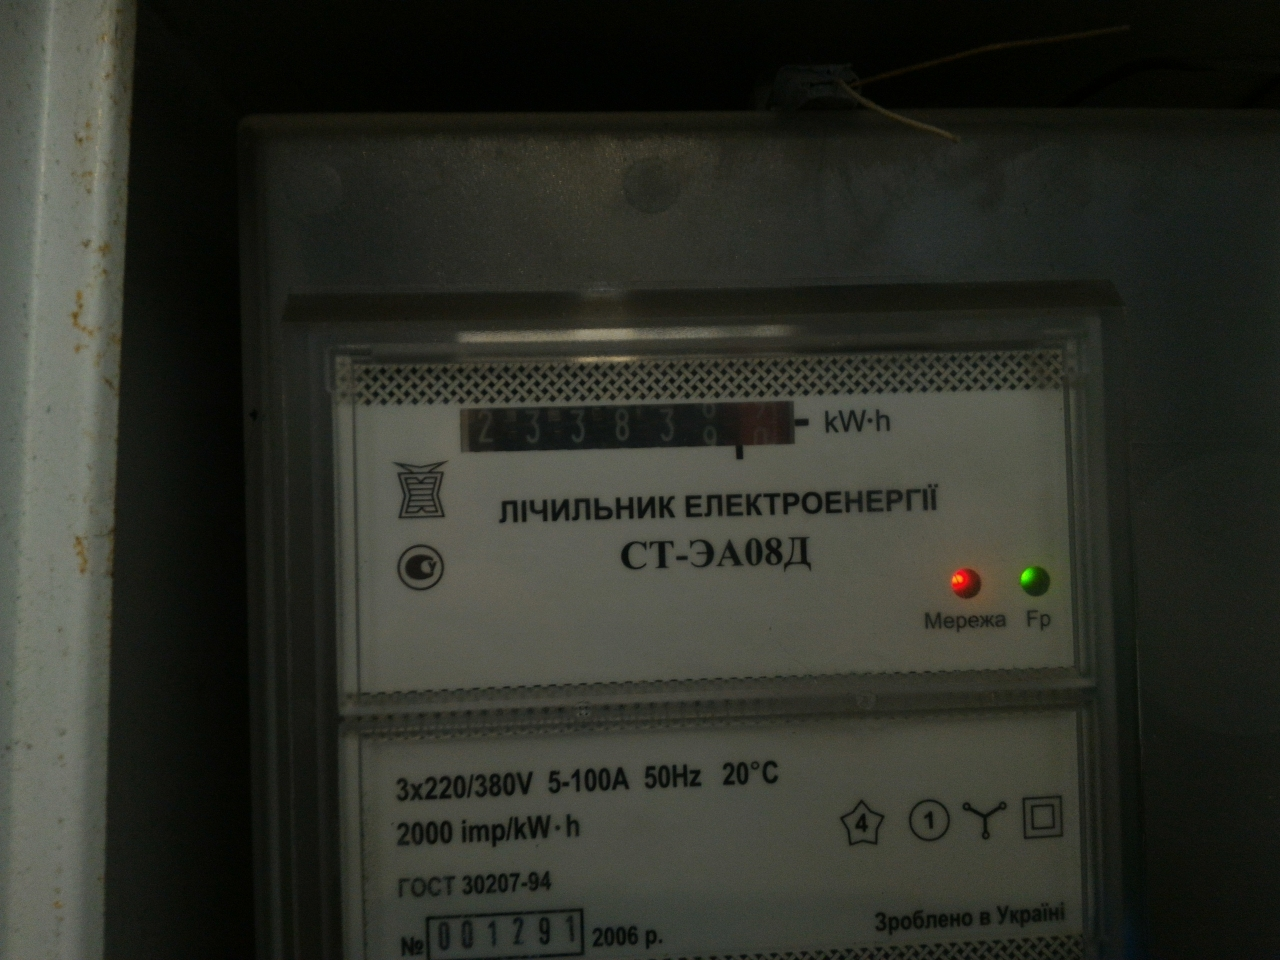0: (748, 421, 769, 446)
2: (475, 408, 497, 445)
3: (522, 407, 543, 445), (658, 405, 677, 443), (567, 408, 587, 445)
8: (612, 405, 632, 444)
9: (699, 422, 721, 447)
screen: (447, 393, 810, 463)
